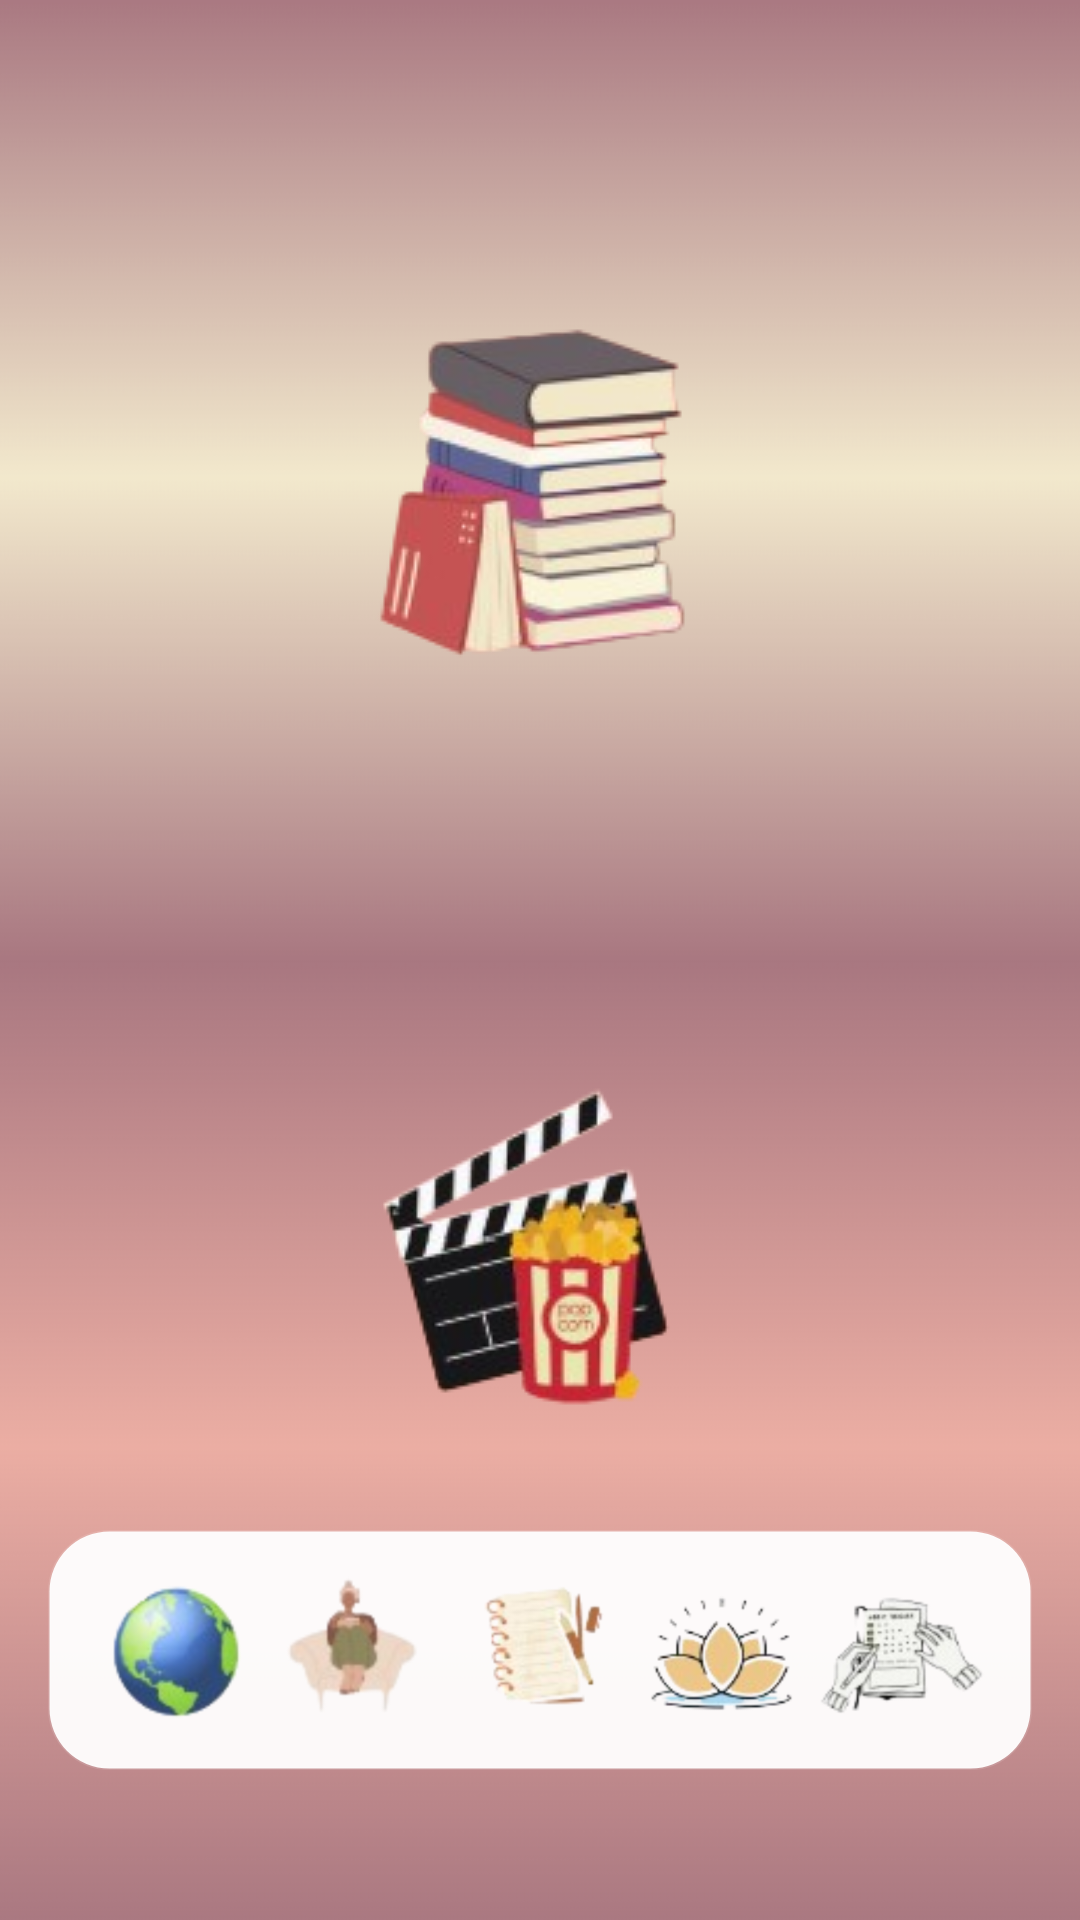

Icon click points for this 1080*1920 phone screenshot, format (x,y):
journal: (544,1646)
travels: (176,1651)
